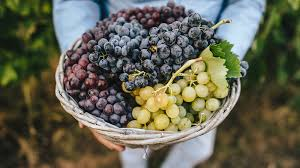Black grapes: (93, 23, 195, 78)
Green grapes: (130, 85, 194, 136), (169, 69, 228, 117)
